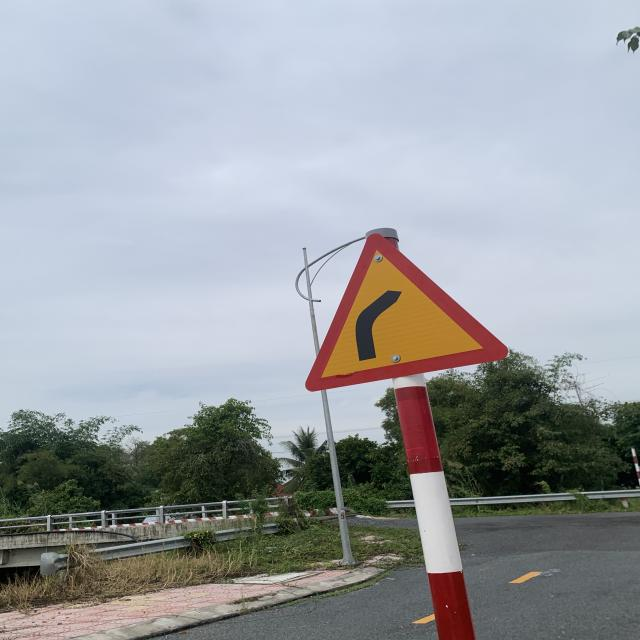Duong_Nguoi_Di_Bo_Cat_Ngang: (304, 235, 512, 391)
